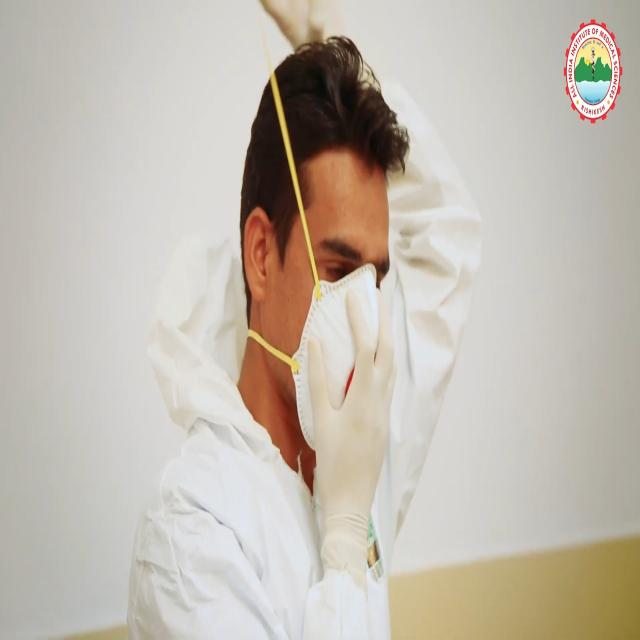Gloves: (302, 267, 392, 573)
